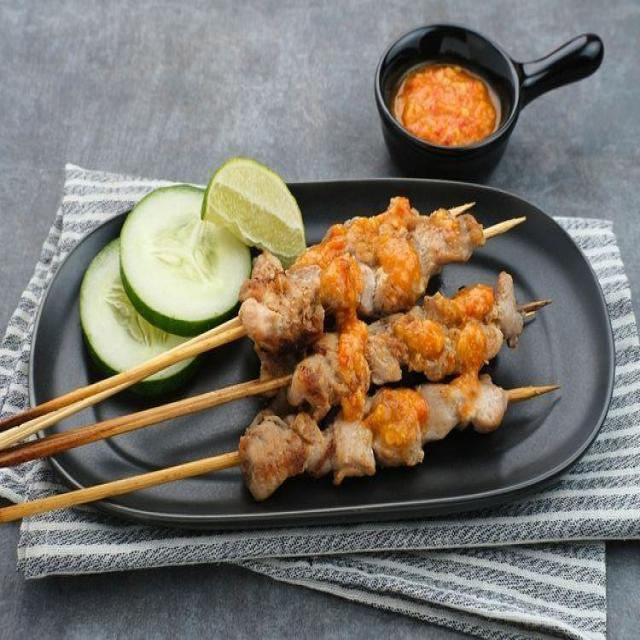Sate: (32, 239, 558, 561)
